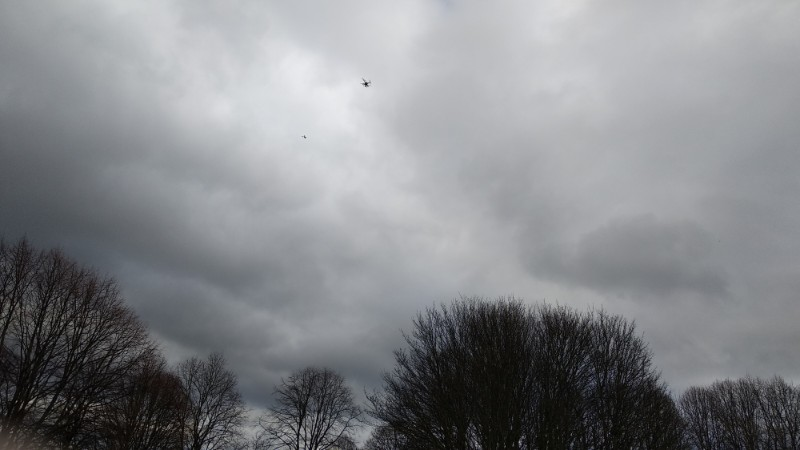drone: (359, 77, 371, 88)
